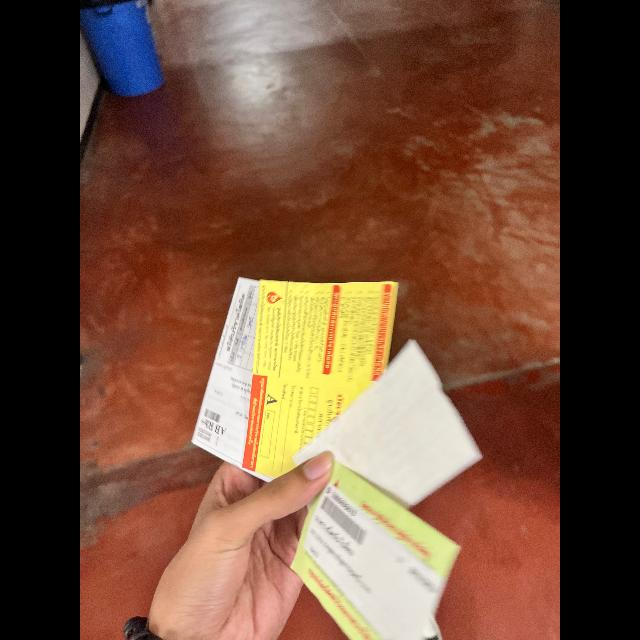scrap_paper: (237, 260, 405, 486), (288, 458, 460, 640), (292, 340, 486, 500), (190, 273, 312, 463)
